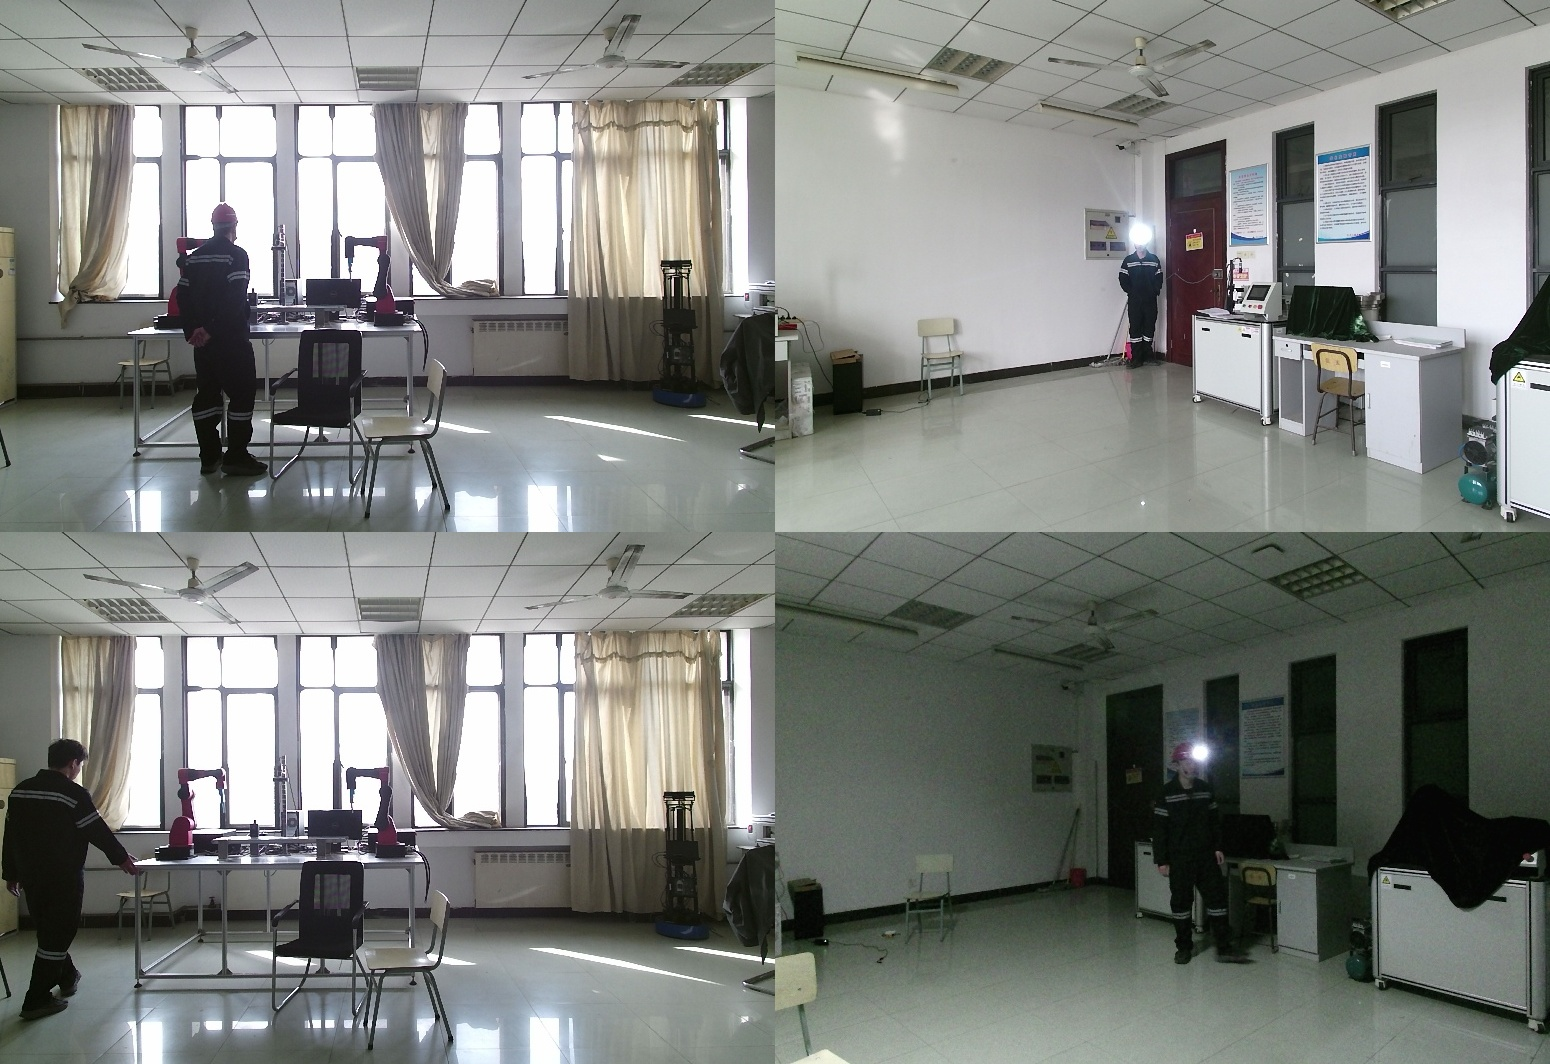person: (1, 738, 140, 1015), (174, 204, 272, 479), (1146, 741, 1237, 975), (1119, 231, 1164, 369)
